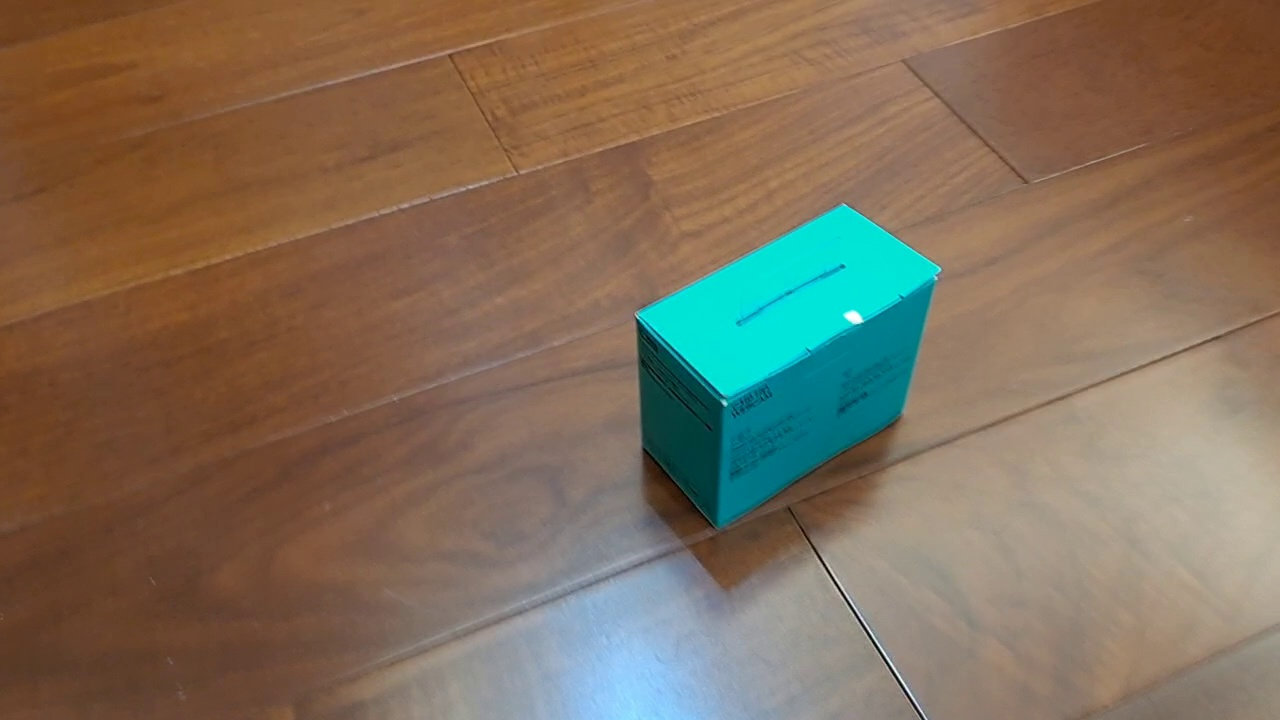webcam: (633, 201, 944, 533)
